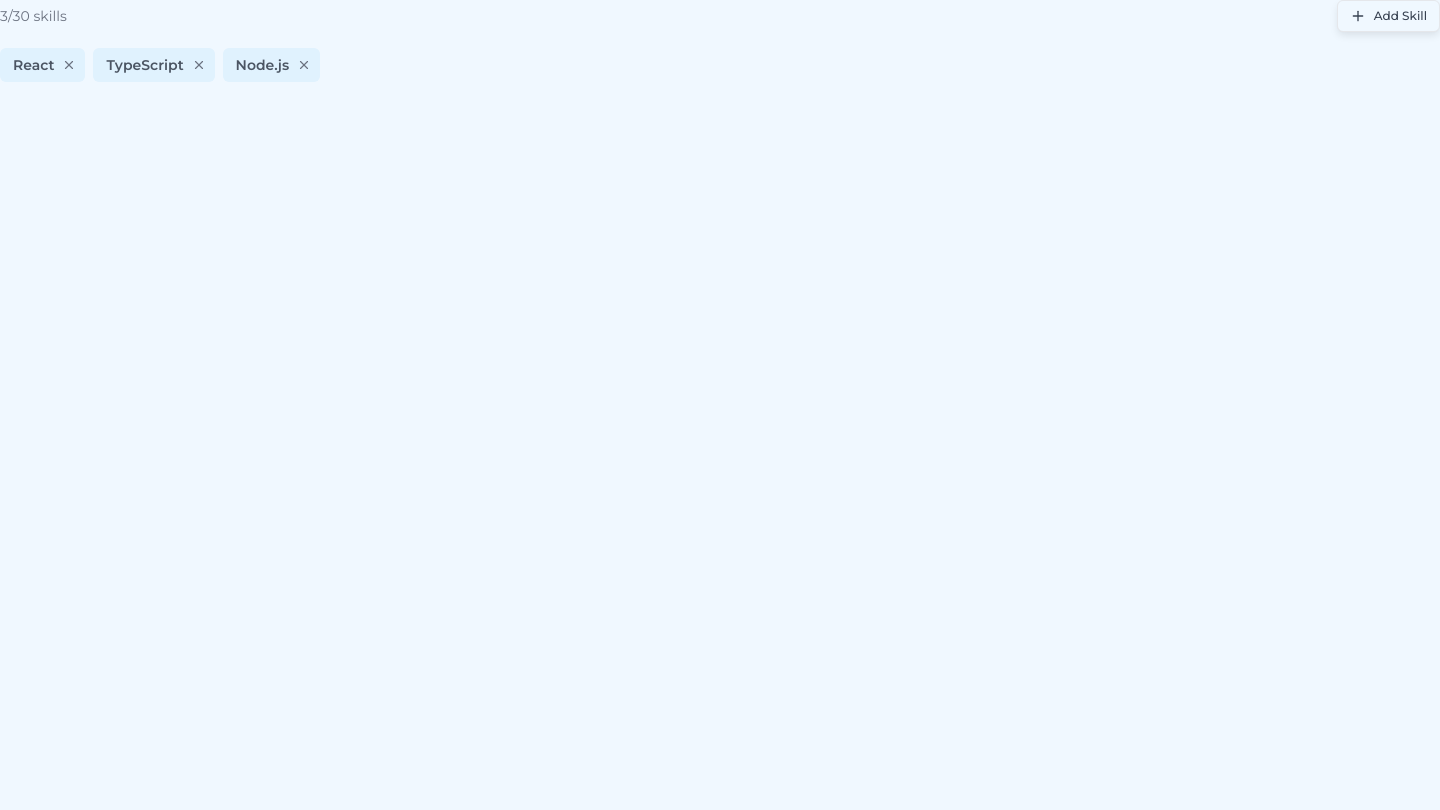
Test: SkillsSection › opens add dialog when Add Skill button is clicked
Click the button "Add Skill": (1388, 16) [1337,0,1439,32]
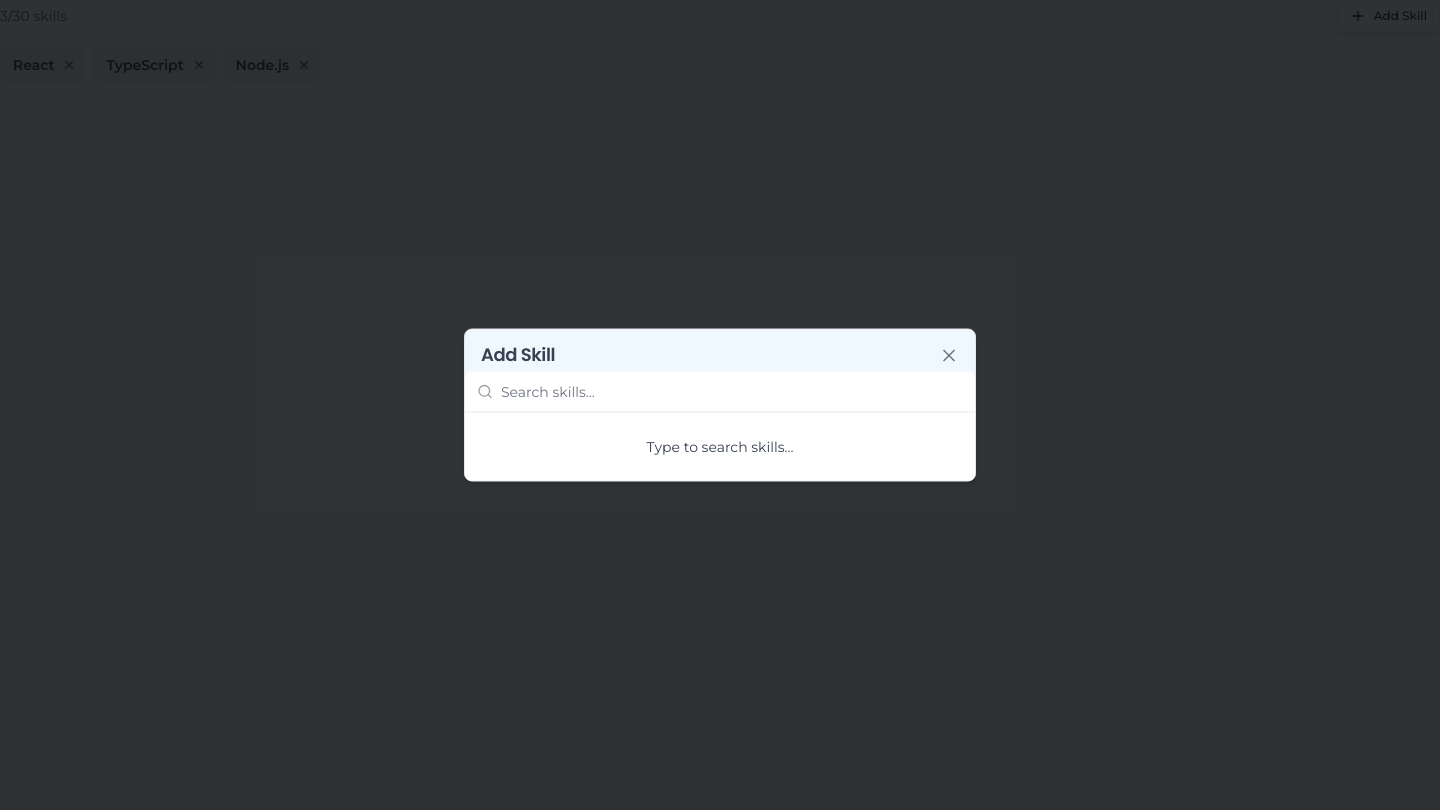
Result: the dropdown with placeholder "Search skills..." is shown at [501,372,963,412]
